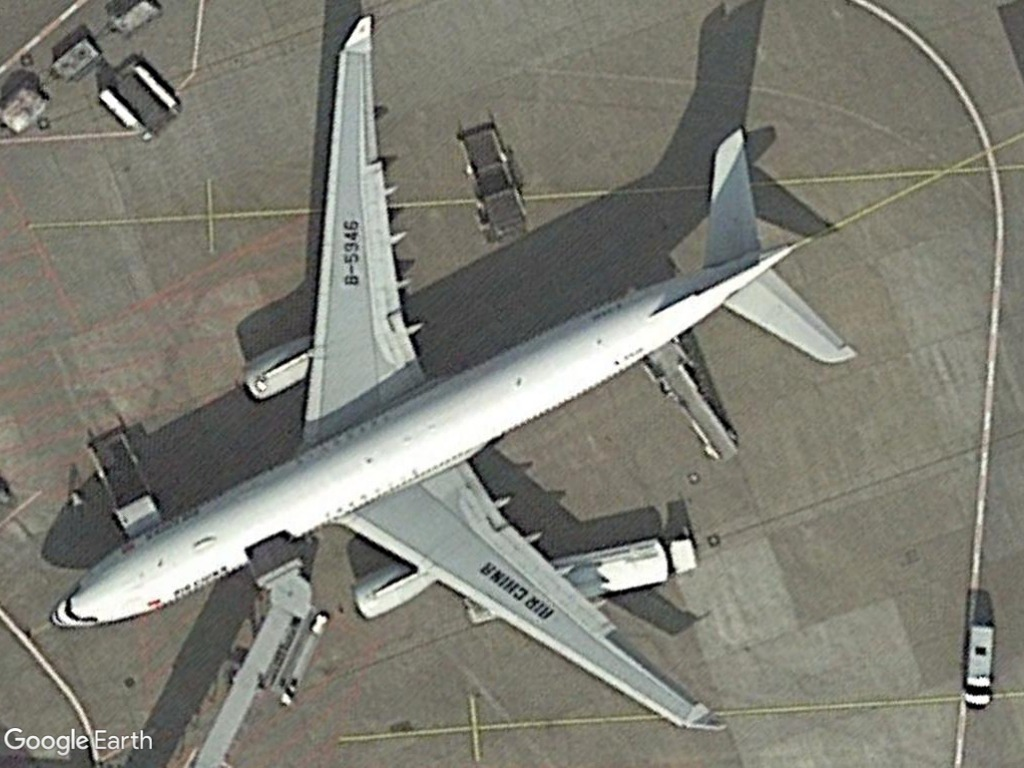airliner: (35, 7, 859, 742)
stairtruck: (645, 350, 742, 465)
van: (960, 619, 995, 714)
